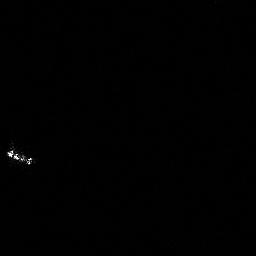ship: (3, 139, 36, 168)
